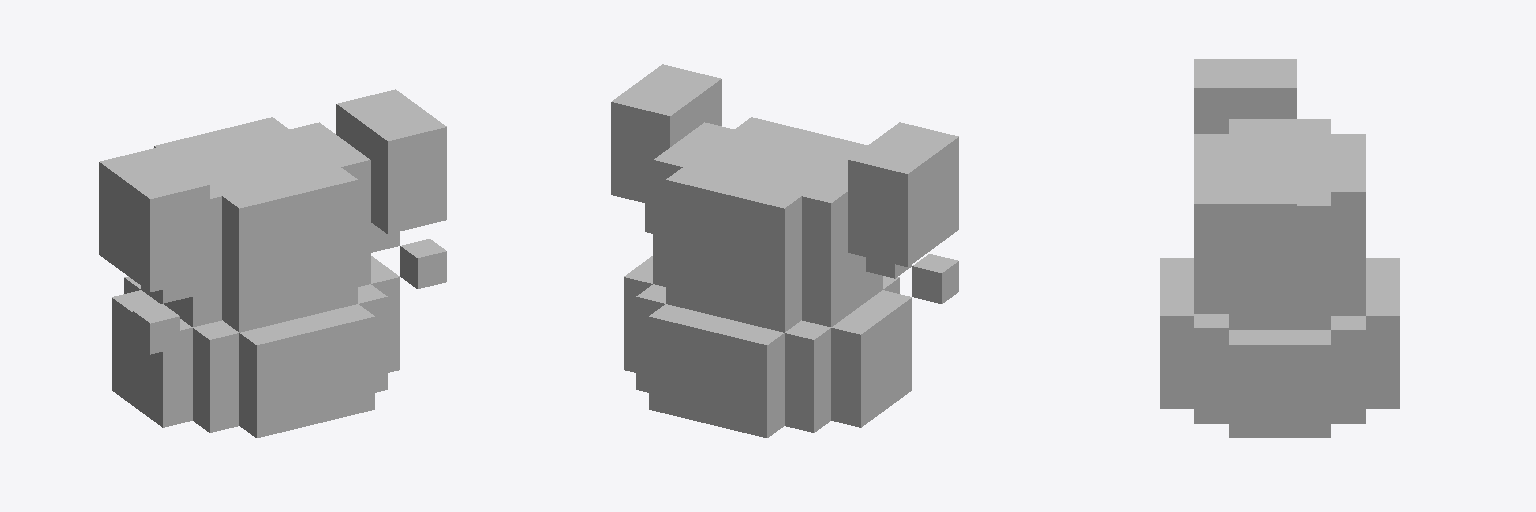
Rendered from Body 20.obj.
3 views of the same model, side by side, from view 1: azimuth 30°, elevation 25°; view 2: azimuth 150°, elevation 25°; view 3: azimuth 270°, elevation 25° (orthographic).
Size of the model in its own units: 10 by 8 by 7.